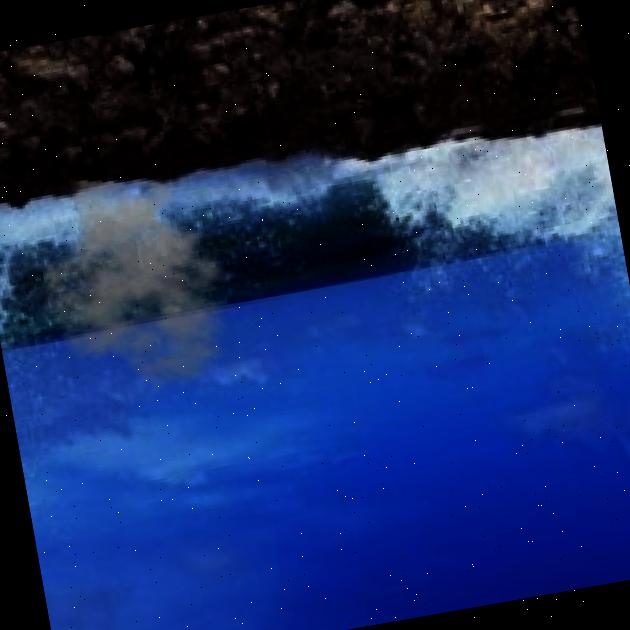smoke: (13, 151, 263, 408)
